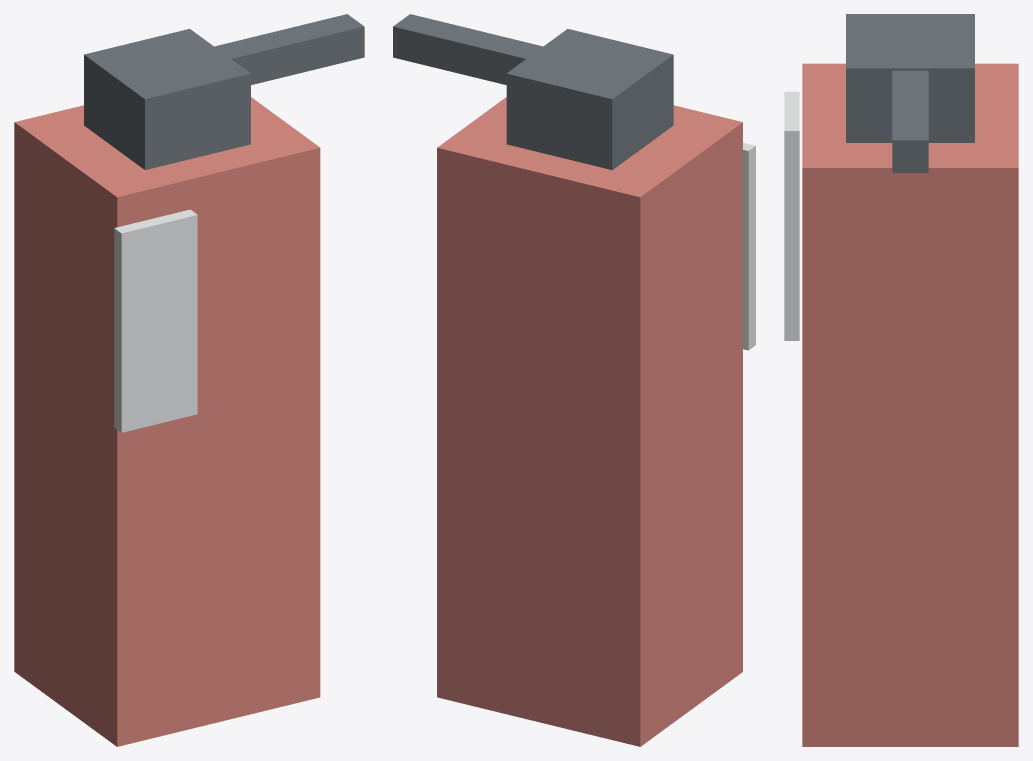
Rendered from extinguisher_lod1.glb.
The picture shows the model from 3 angles, left to right: view 1: azimuth 30°, elevation 25°; view 2: azimuth 150°, elevation 25°; view 3: azimuth 270°, elevation 25°; orthographic projection. The views are drawn at different scales.
Parts seen in each view (by area): view 1: extinguisher-node-0, extinguisher-node-1, extinguisher-node-3, extinguisher-node-2; view 2: extinguisher-node-0, extinguisher-node-1, extinguisher-node-2, extinguisher-node-3; view 3: extinguisher-node-0, extinguisher-node-1, extinguisher-node-3, extinguisher-node-2.
Part boxes in pixels (left/top/right/bottom): extinguisher-node-0: left=14, top=97, right=320, bottom=746; extinguisher-node-1: left=84, top=28, right=250, bottom=169; extinguisher-node-3: left=114, top=209, right=197, bottom=432; extinguisher-node-2: left=214, top=14, right=364, bottom=84; extinguisher-node-0: left=437, top=97, right=742, bottom=746; extinguisher-node-1: left=506, top=29, right=673, bottom=170; extinguisher-node-2: left=393, top=14, right=542, bottom=84; extinguisher-node-3: left=743, top=142, right=755, bottom=350; extinguisher-node-0: left=802, top=63, right=1018, bottom=746; extinguisher-node-1: left=846, top=14, right=974, bottom=142; extinguisher-node-3: left=784, top=91, right=799, bottom=340; extinguisher-node-2: left=892, top=70, right=928, bottom=172.
Size of the model in its own units: 0.695 by 1.4 by 0.455.
